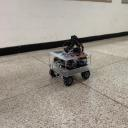cart: (48, 50, 92, 86)
